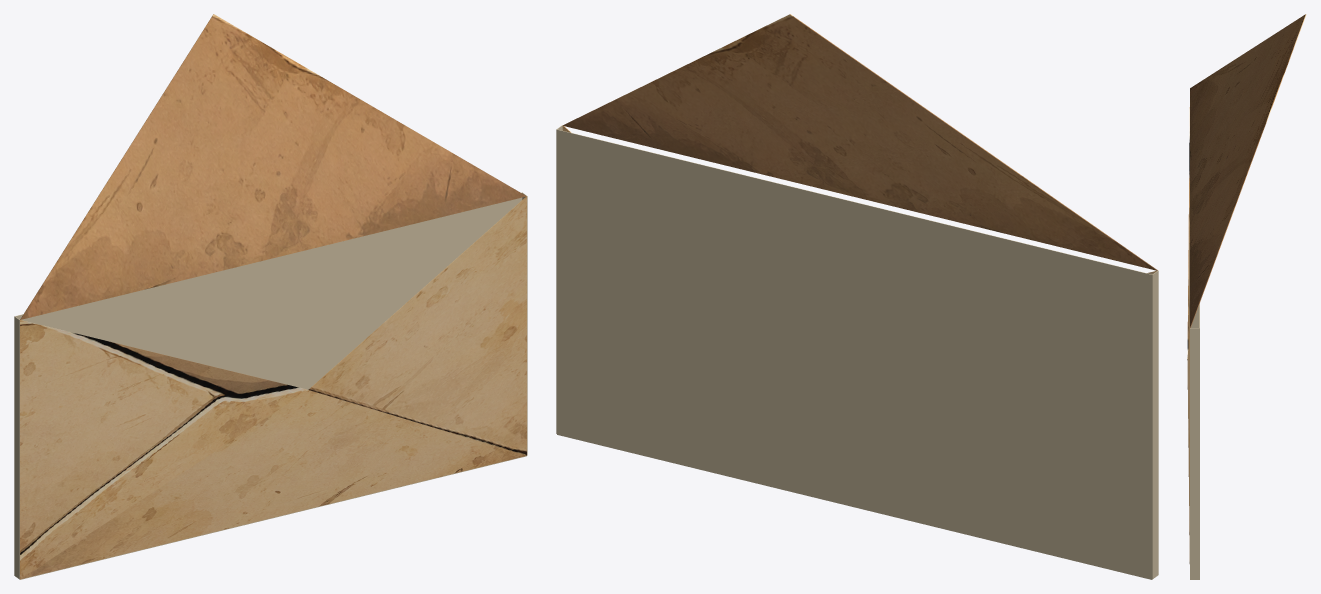
Rendered from empty_envelope-default.glb.
3 views of the same model, side by side, from view 1: azimuth 30°, elevation 25°; view 2: azimuth 150°, elevation 25°; view 3: azimuth 270°, elevation 25° (orthographic). The views are drawn at different scales.
Visible parts, largest first — view 1: empty_envelope-default__Exact_accepted_envelope_paper, empty_envelope-default__Warm_paper_cut_edge/back; view 2: empty_envelope-default__Warm_paper_cut_edge/back, empty_envelope-default__Exact_accepted_envelope_paper; view 3: empty_envelope-default__Exact_accepted_envelope_paper, empty_envelope-default__Warm_paper_cut_edge/back.
Part boxes in pixels (bbox=[...]): empty_envelope-default__Exact_accepted_envelope_paper: bbox=[20, 14, 526, 579]; empty_envelope-default__Warm_paper_cut_edge/back: bbox=[14, 192, 527, 579]; empty_envelope-default__Warm_paper_cut_edge/back: bbox=[556, 125, 1158, 579]; empty_envelope-default__Exact_accepted_envelope_paper: bbox=[562, 14, 1157, 274]; empty_envelope-default__Exact_accepted_envelope_paper: bbox=[1187, 14, 1306, 563]; empty_envelope-default__Warm_paper_cut_edge/back: bbox=[1190, 303, 1199, 579].
Bounding box in the file's own units: 0.2255 × 0.1952 × 0.0472.
2 materials, 1 textured.
